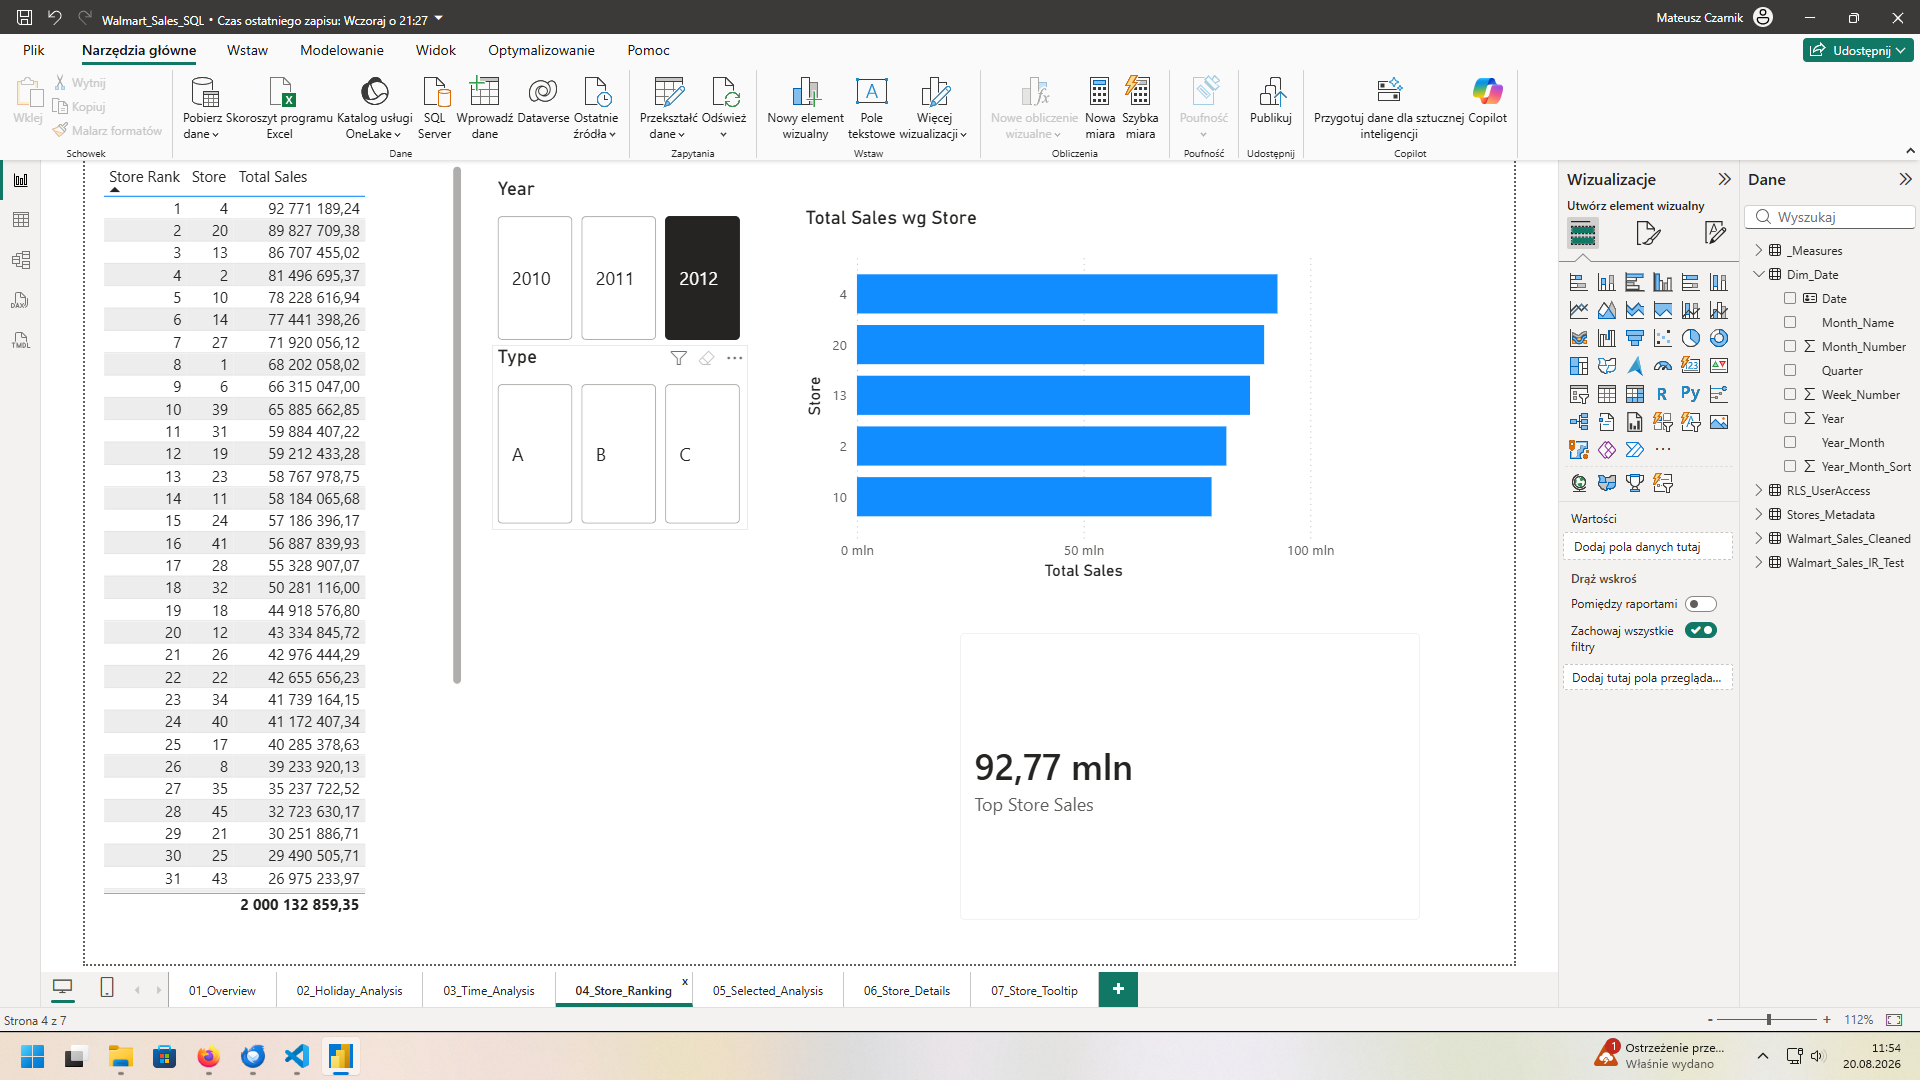

The page's visual inventory and layout, read from the dashboard file:
{"tool":"powerbi","page":{"name":"04_Store_Ranking","canvas":[1280,720],"ordinal":3},"visuals":[{"type":"tableEx","fields":{"Values":["_Measures.Store Rank","Stores_Metadata.Store","_Measures.Total Sales"]},"box":[10.5,0,332.1,681.4],"z":0},{"type":"advancedSlicerVisual","fields":{"Values":["Dim_Date.Year"]},"box":[364.5,15.2,229.4,151.3],"z":1000},{"type":"advancedSlicerVisual","fields":{"Values":["Stores_Metadata.Type"]},"box":[364.5,165.6,229.4,165.6],"z":2000},{"type":"clusteredBarChart","fields":{"Category":["Stores_Metadata.Store"],"Y":["_Measures.Total Sales"]},"box":[640.5,41.3,483.9,339.3],"z":3000},{"type":"cardVisual","fields":{"Data":["_Measures.Top Store Sales"]},"box":[766.7,406.7,447,291.5],"z":4000}]}

Visuals, with their boxes on the page's 1280x720 design canvas (x1, y1, x2, y2). These are canvas units, not pixel positions in the 1920x1080 screenshot, which may show the page scaled, cropped or inside an application window:
tableEx - _Measures.Store Rank x Stores_Metadata.Store: [x1=10, y1=0, x2=343, y2=681]
advancedSlicerVisual - Dim_Date.Year: [x1=364, y1=15, x2=594, y2=166]
advancedSlicerVisual - Stores_Metadata.Type: [x1=364, y1=166, x2=594, y2=331]
clusteredBarChart - Stores_Metadata.Store x _Measures.Total Sales: [x1=640, y1=41, x2=1124, y2=381]
cardVisual - _Measures.Top Store Sales: [x1=767, y1=407, x2=1214, y2=698]
